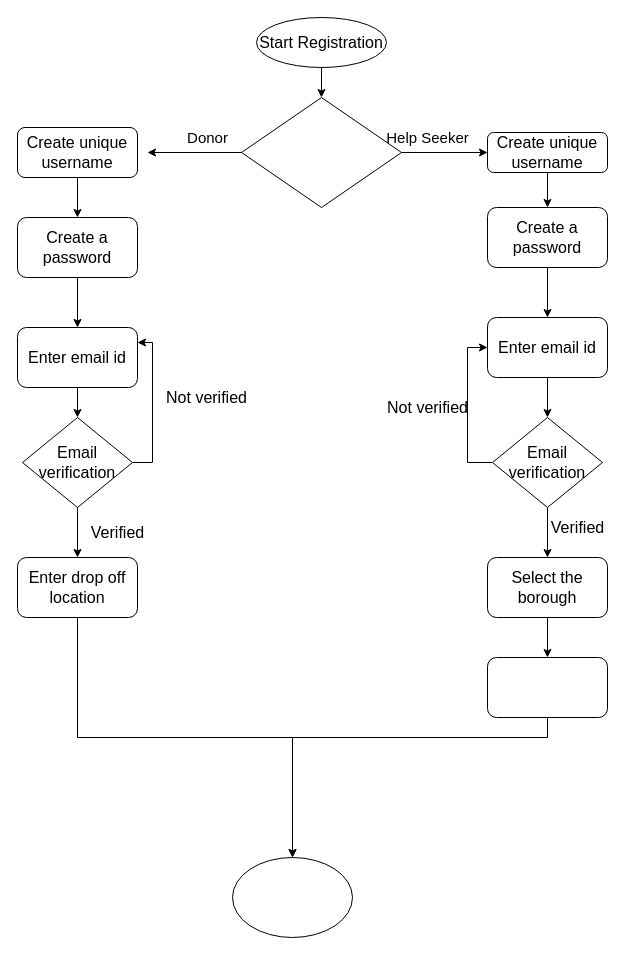
This 630x955 diagram has some shape labels left out. The centre of each missing label's shape, as x and y in pixels:
"Enter resource categories (3)" goes at pixel 547 687.
"Help seeker or Donor" goes at pixel 321 152.
"Registration complete" goes at pixel 292 897.
